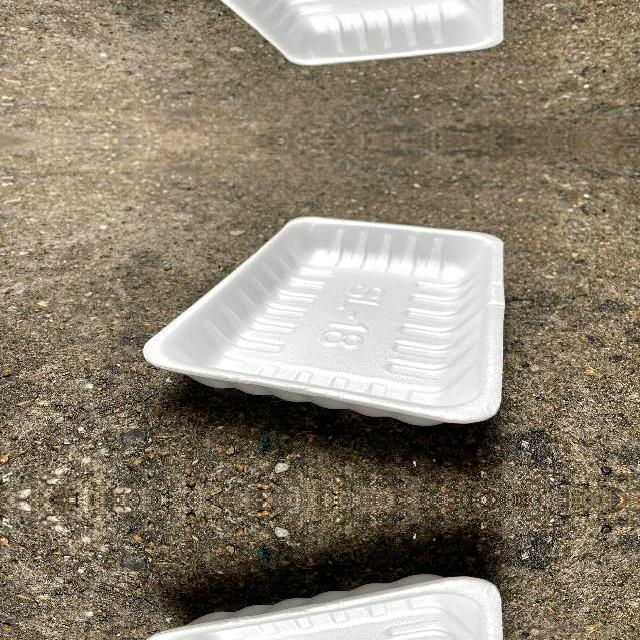Styrofoam: (143, 212, 503, 428), (143, 216, 505, 425), (143, 570, 503, 640), (143, 0, 503, 68), (146, 573, 503, 640), (223, 0, 504, 64)
